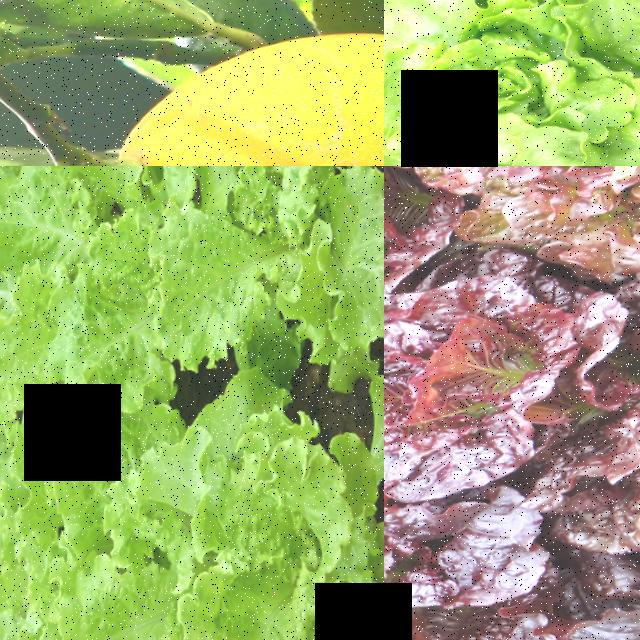lemon: (100, 9, 384, 166)
lettuce: (36, 380, 384, 640), (72, 166, 384, 449), (384, 0, 640, 166), (0, 166, 106, 455)
